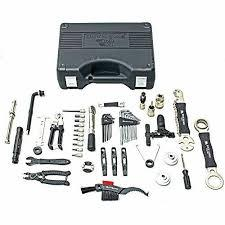wrench: (117, 108, 140, 145), (99, 111, 115, 143)
